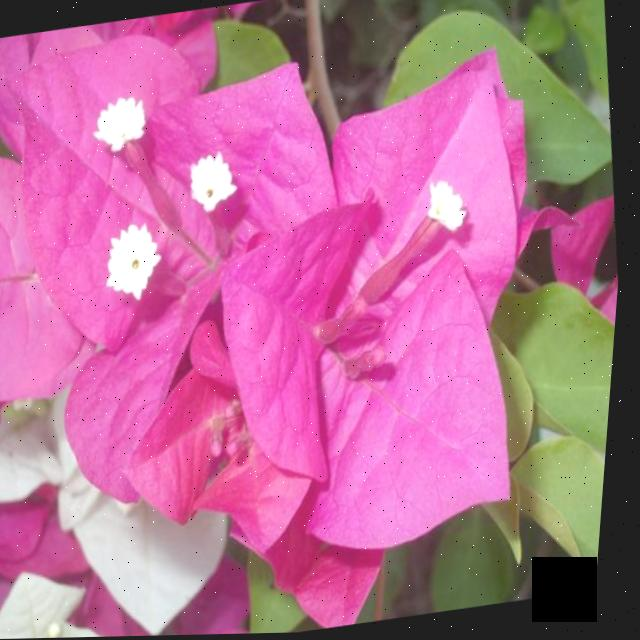bougainvillea: (185, 34, 610, 614), (0, 40, 390, 570)
